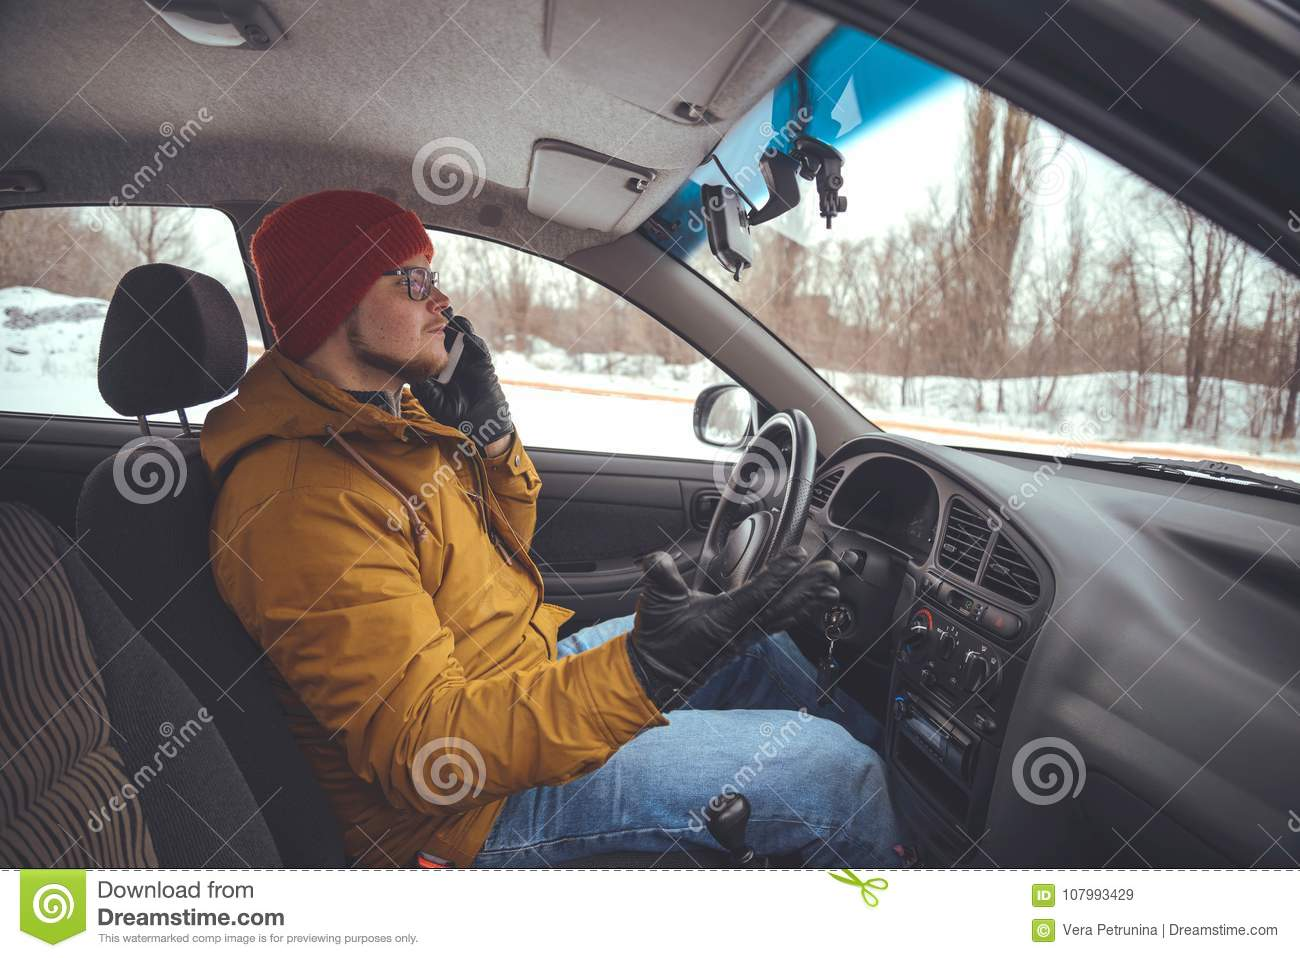phone: (432, 322, 472, 390)
talk: (397, 263, 516, 452)
